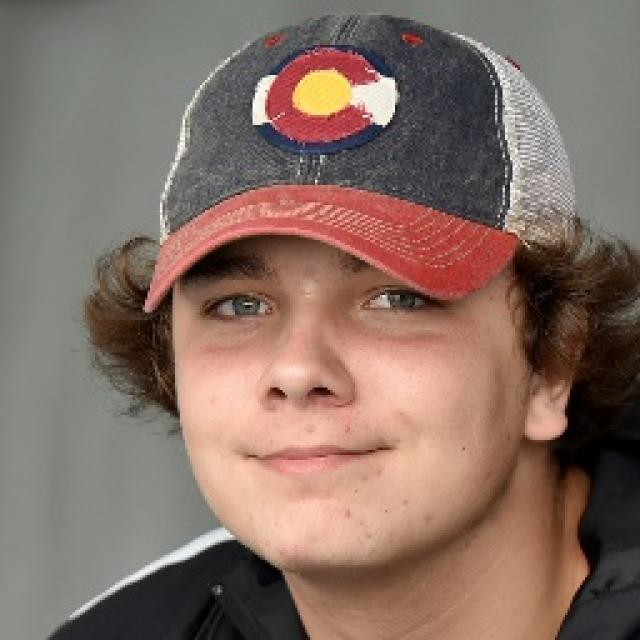earlobe: (523, 296, 598, 443)
